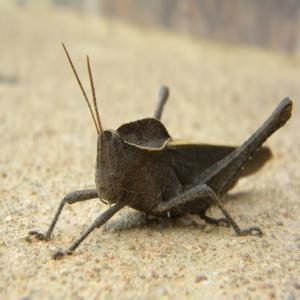locust: (52, 39, 295, 268)
